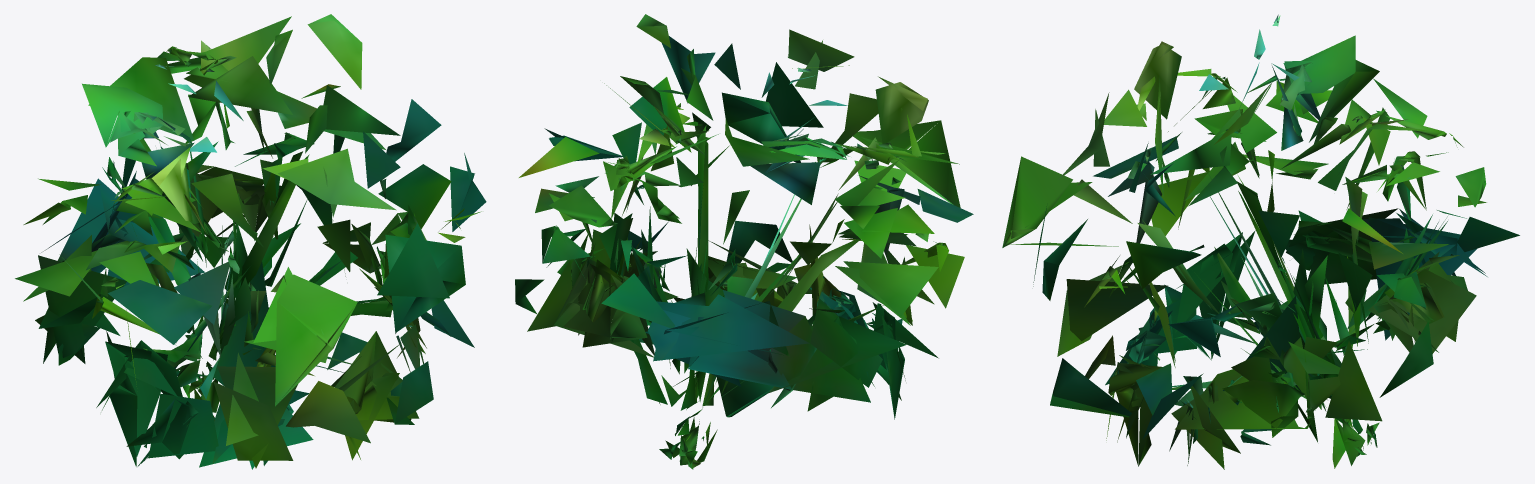
File: jungle-bush-lo.glb
3 renders of one model, left to right at view 1: azimuth 30°, elevation 25°; view 2: azimuth 150°, elevation 25°; view 3: azimuth 270°, elevation 25°, orthographic. The views are drawn at different scales.
Parts seen in each view (by area): view 1: Mesh_0; view 2: Mesh_0; view 3: Mesh_0.
Part boxes in pixels (x1,y1,x2,y2): Mesh_0: (15,14,486,469); Mesh_0: (515,14,973,469); Mesh_0: (1002,14,1519,469).
Size of the model in its own units: 1.07 by 0.9805 by 1.09.
Materials: 1 (1 with a texture image).
